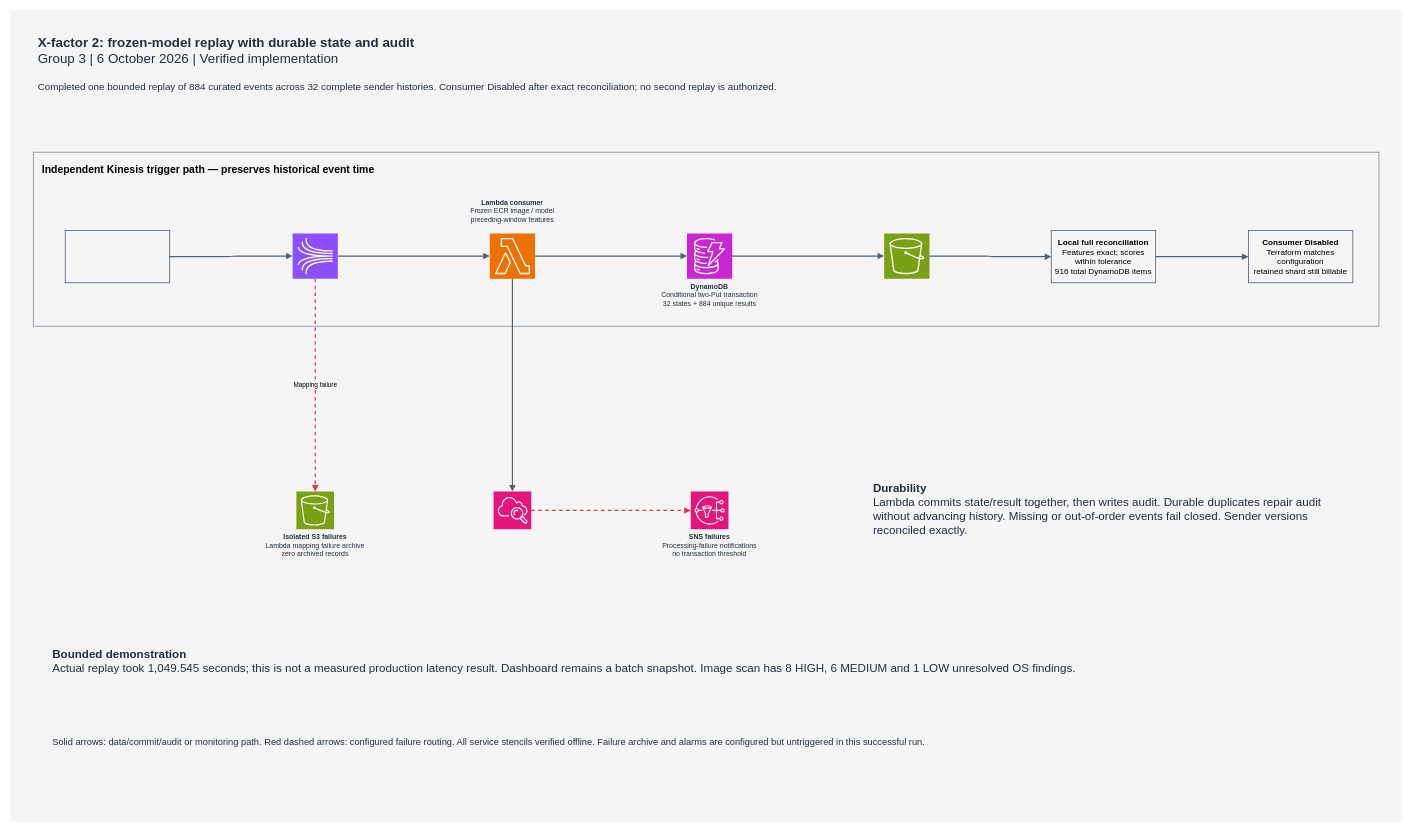
This 1412x832 diagram has some shape labels left out. Here are the shapes that lost their labels. From the top down, the centre of each, then its label:
(117,256): Local CSV replay Verified curated input + prior FX no labels or rolling features
(315,256): Kinesis Data Streams One provisioned shard composite sender partition key
(906,256): S3 audit 884 matching result objects encrypted project prefix
(512,510): CloudWatch Structured logs + failure alarm zero errors / throttles
